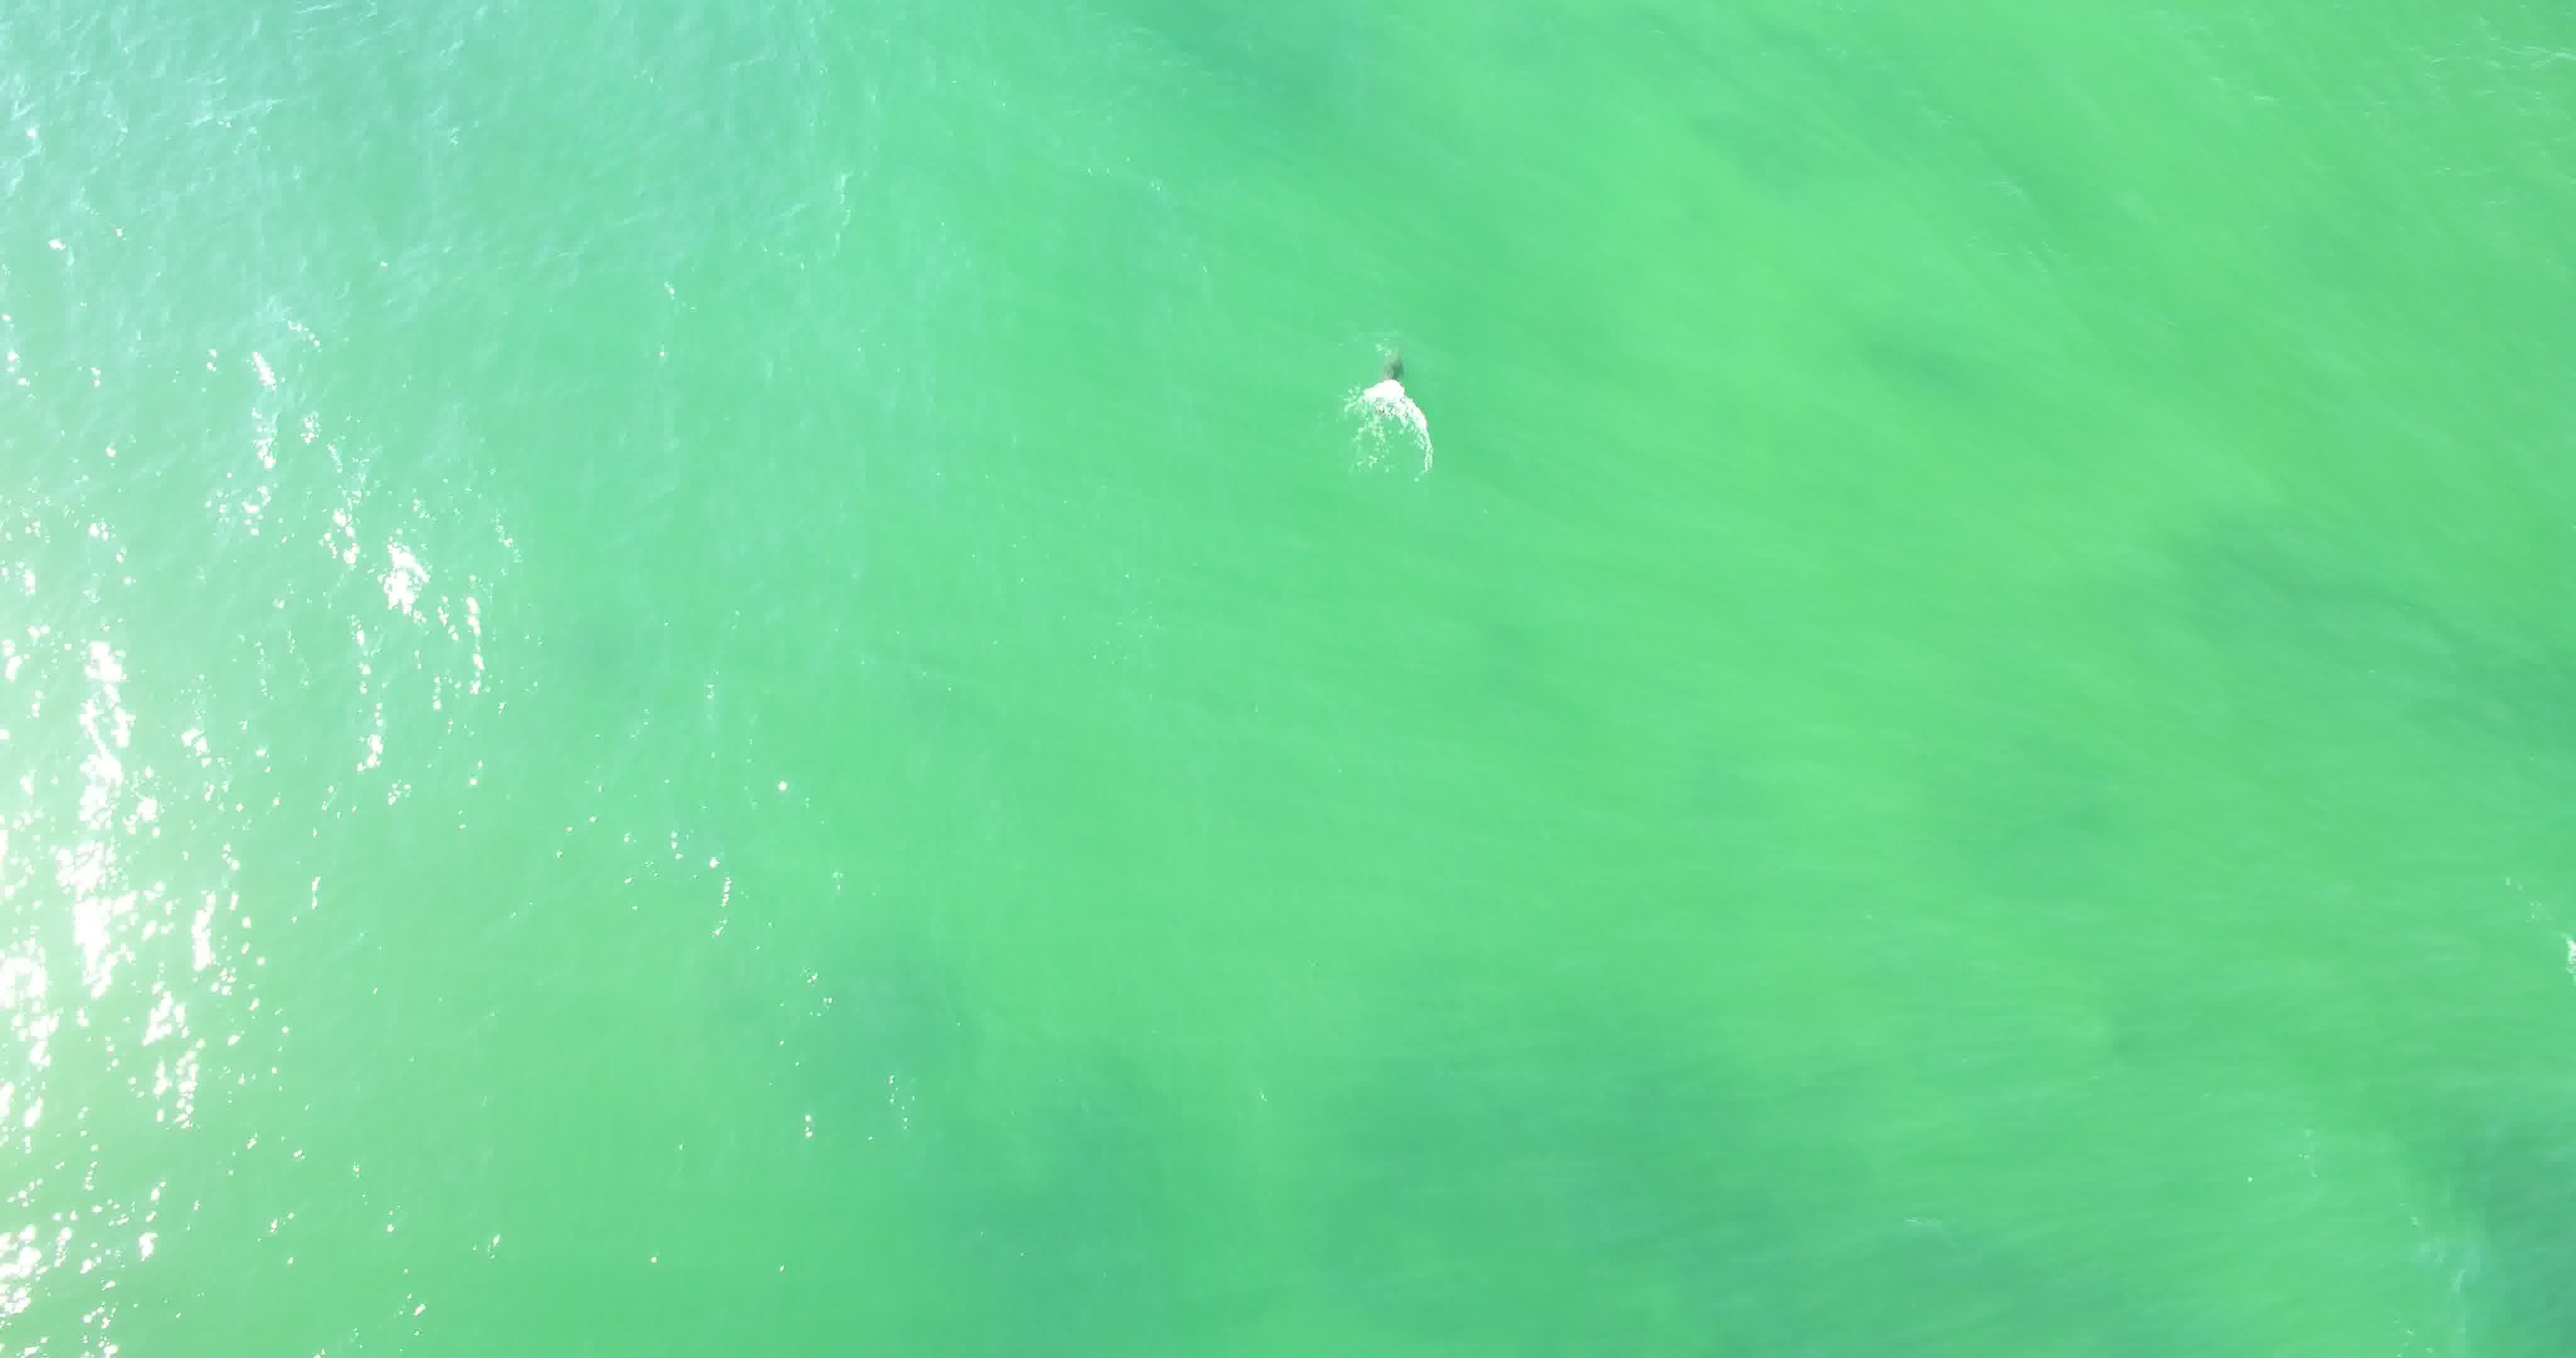dolphin: (1348, 303, 1424, 448)
